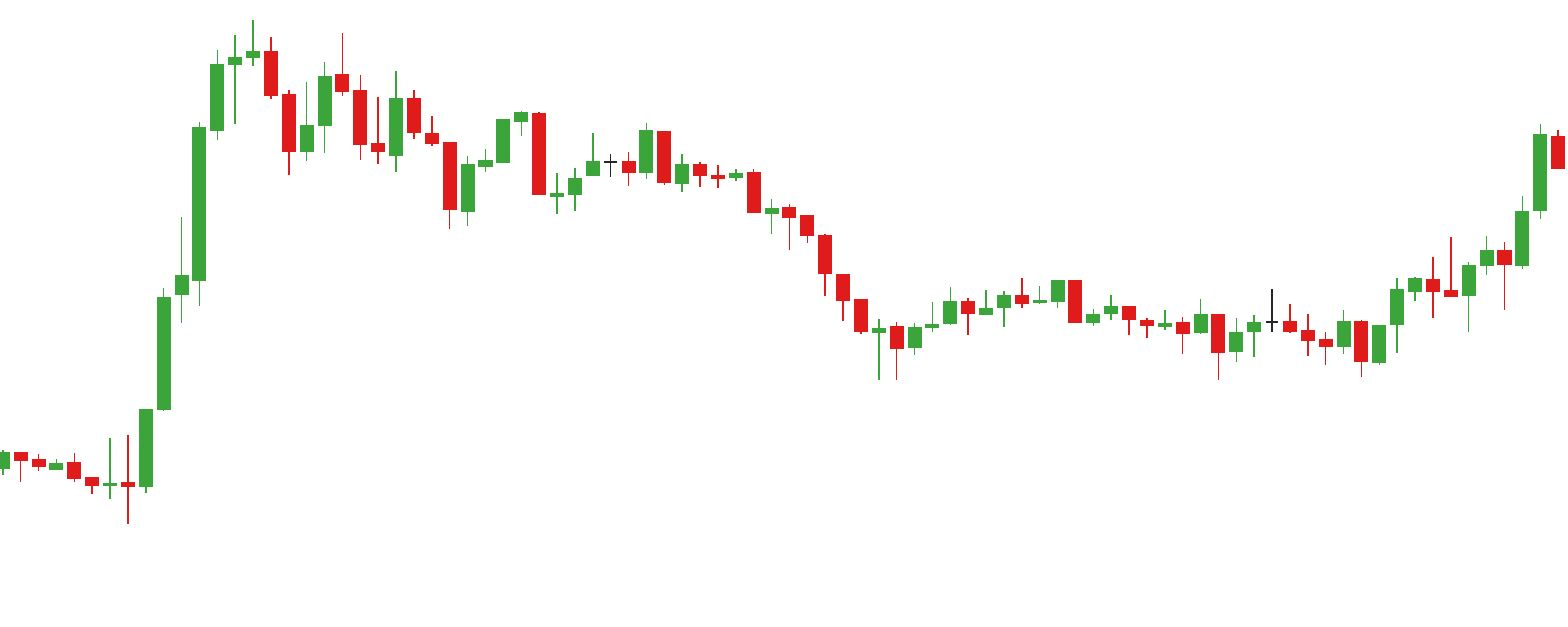buy: (1209, 324, 1384, 379)
